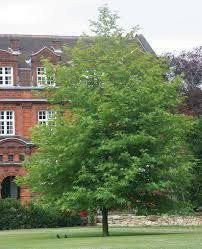tree: (23, 6, 192, 234)
